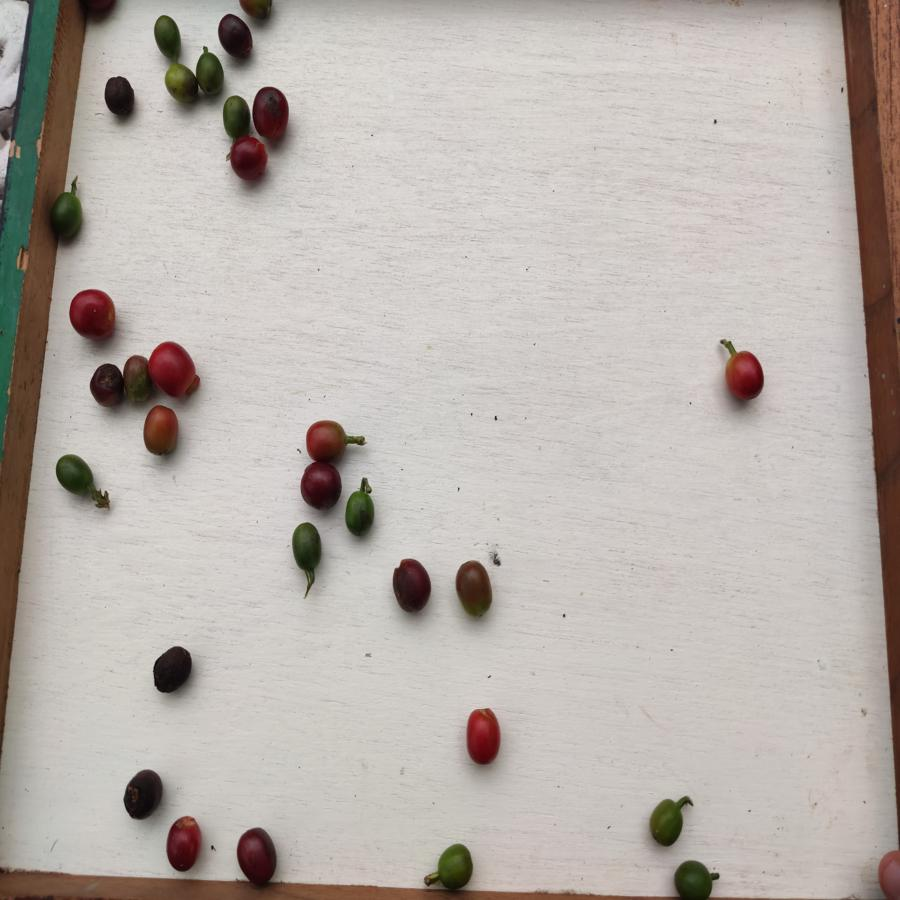Inmaduro: (647, 795, 688, 845), (436, 842, 475, 891), (55, 451, 95, 497), (673, 857, 715, 900), (49, 188, 83, 241), (344, 487, 379, 536), (291, 521, 325, 570), (150, 13, 184, 59), (219, 93, 251, 141), (163, 60, 199, 101), (194, 51, 225, 93)
Maduro: (147, 342, 206, 397), (67, 287, 119, 342), (723, 350, 770, 401), (465, 705, 501, 768), (306, 417, 348, 462)
Pinton: (454, 557, 495, 617), (143, 403, 183, 462)
Sobremaduro: (235, 825, 283, 889), (389, 555, 433, 613), (121, 767, 165, 821), (298, 461, 342, 513), (166, 813, 205, 871), (252, 85, 291, 141), (151, 643, 192, 692), (217, 11, 256, 61), (231, 134, 269, 181), (89, 359, 124, 407), (104, 73, 139, 119), (123, 353, 151, 407), (235, 1, 274, 20)
